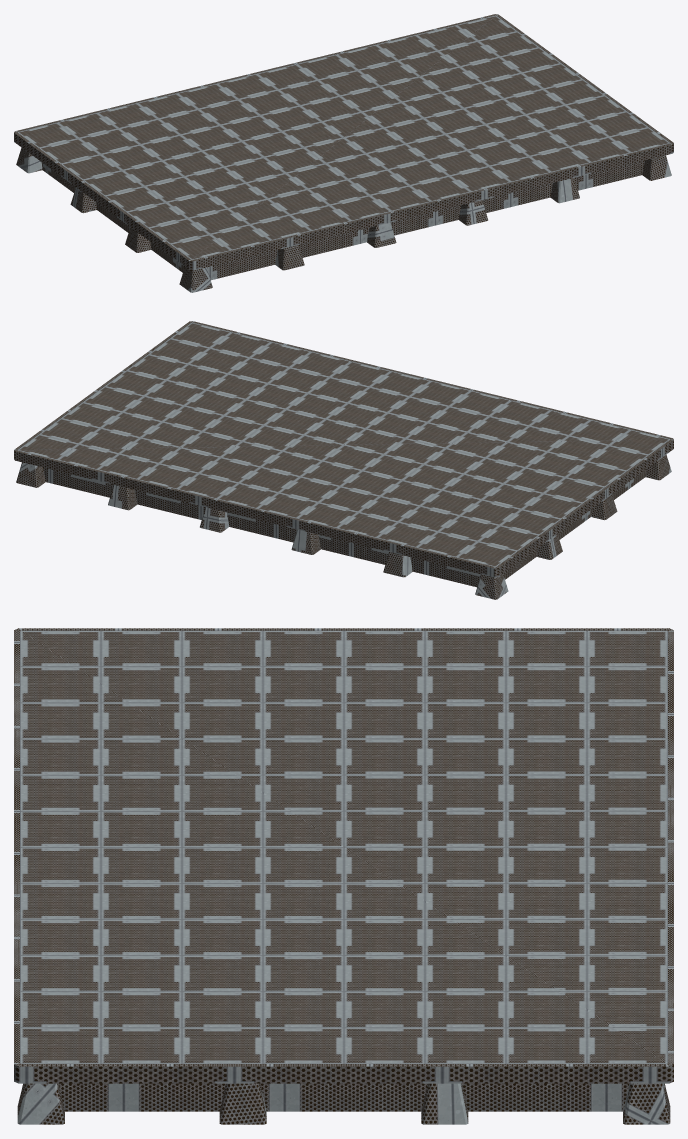
File: platform.fbx
3 renders of one model, top to bottom at view 1: azimuth 30°, elevation 25°; view 2: azimuth 150°, elevation 25°; view 3: azimuth 270°, elevation 25°, orthographic. The views are drawn at different scales.
Visible parts, largest first — view 1: merge2; view 2: merge2; view 3: merge2.
Part boxes in pixels (box(x1,y1,x2,y2)): merge2: box(14, 14, 673, 292); merge2: box(14, 321, 673, 599); merge2: box(14, 628, 673, 1124).
Size of the model in its own units: 2200 by 140 by 1400.
Materials: 1 (1 with a texture image).
